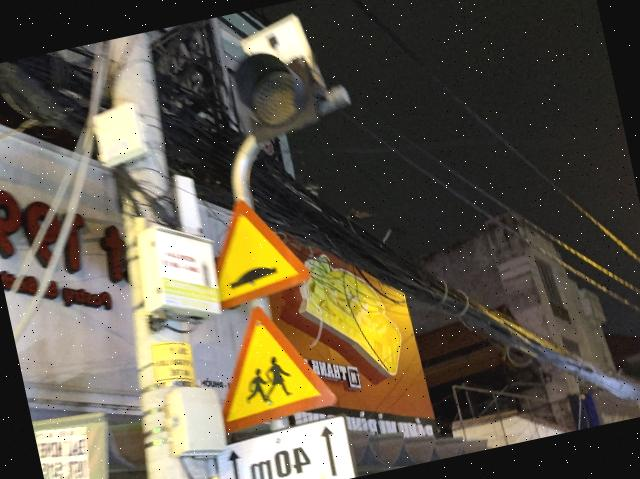duong-co-go-giam-toc: (200, 189, 312, 310)
tre-em-qua-duong: (201, 294, 339, 435)
